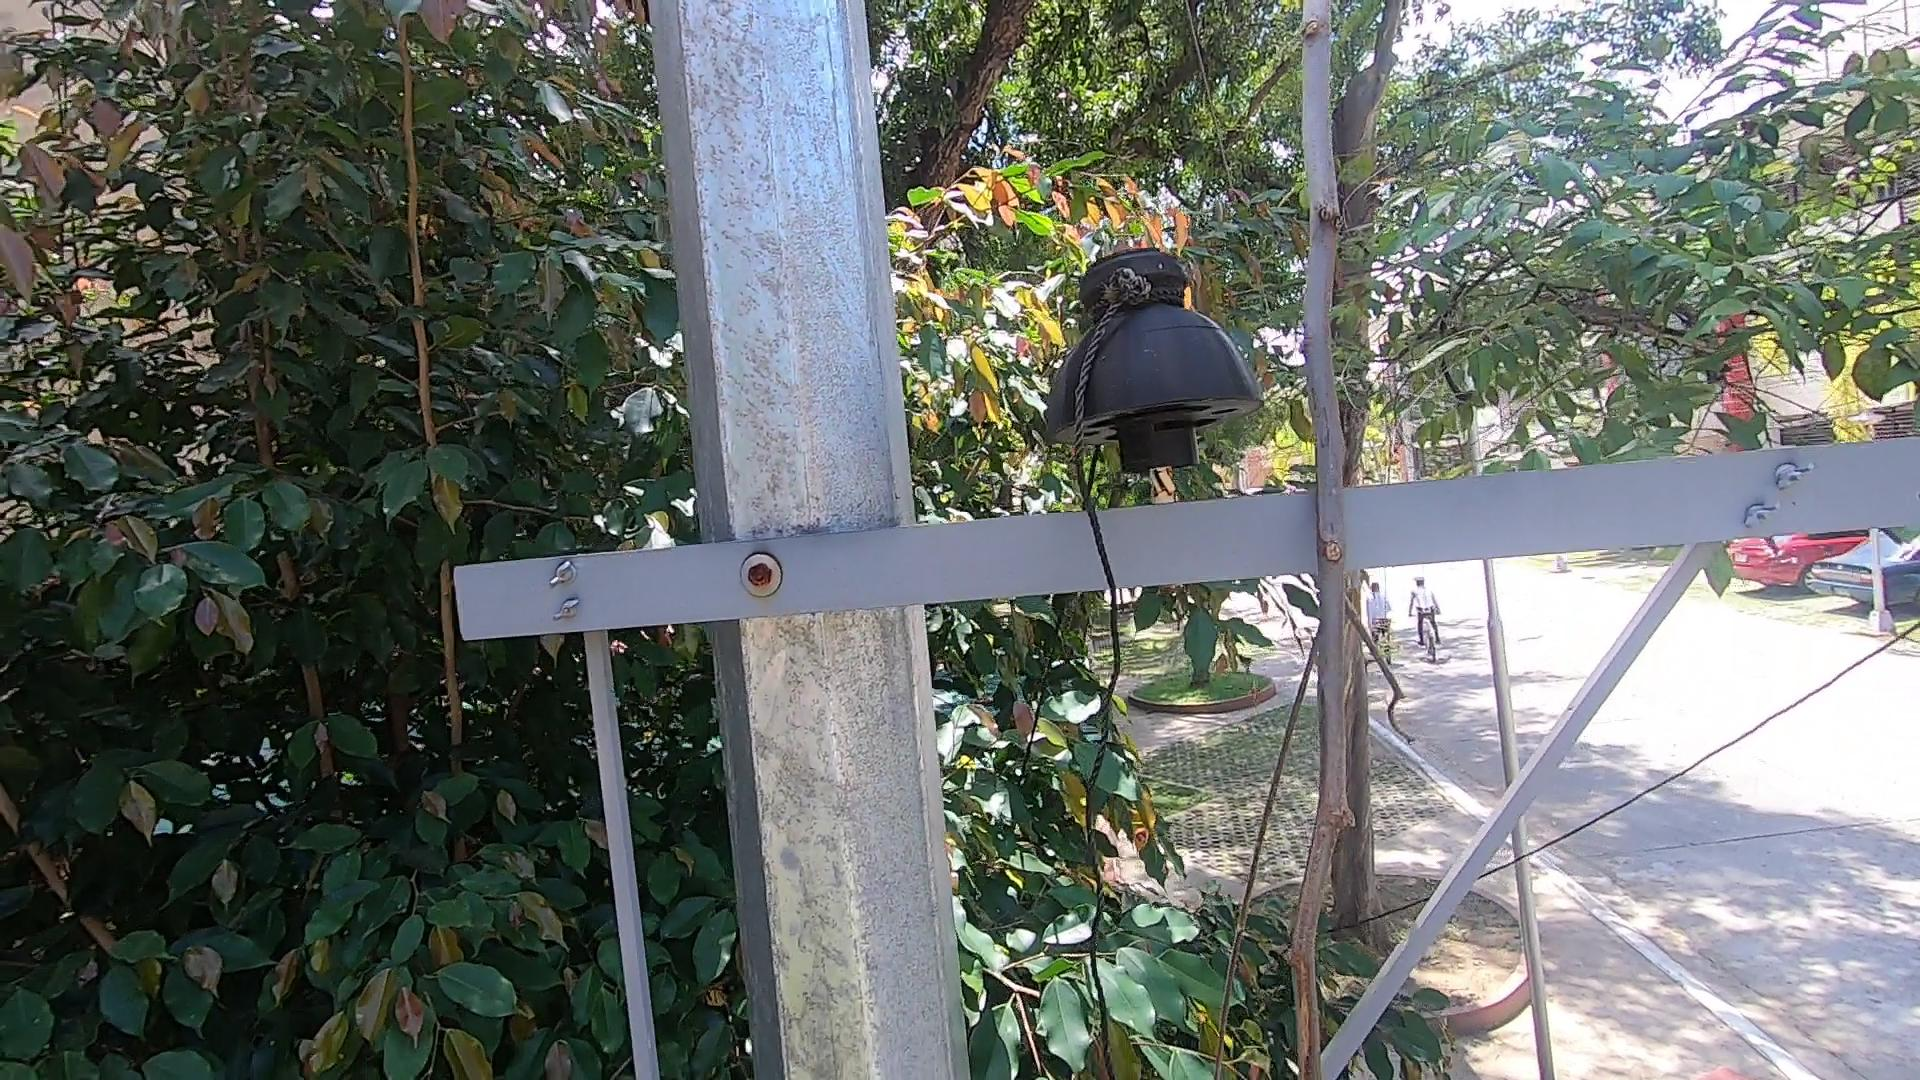tree branch: (1211, 9, 1453, 1080)
